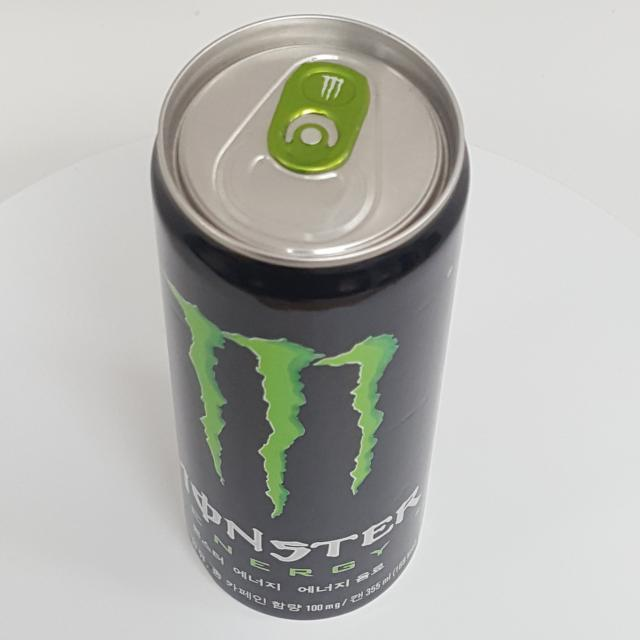--------355ML: (150, 13, 469, 620)
